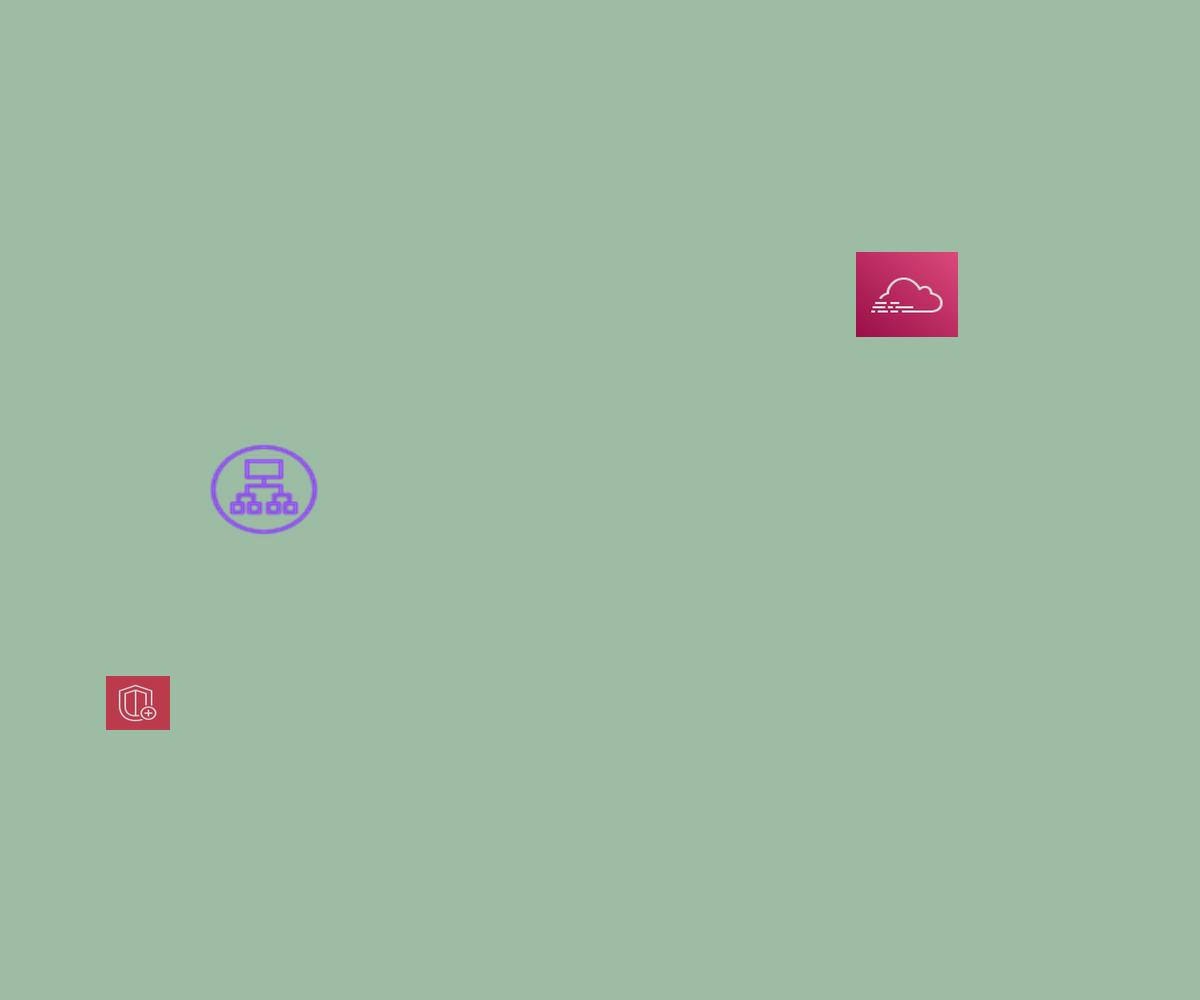AWS-CloudTrail: (856, 252, 958, 337)
AWS-Res_Elastic-Load-Balancing_Application-Load-Balancer: (206, 441, 322, 538)
AWS-Shield: (106, 676, 170, 730)
